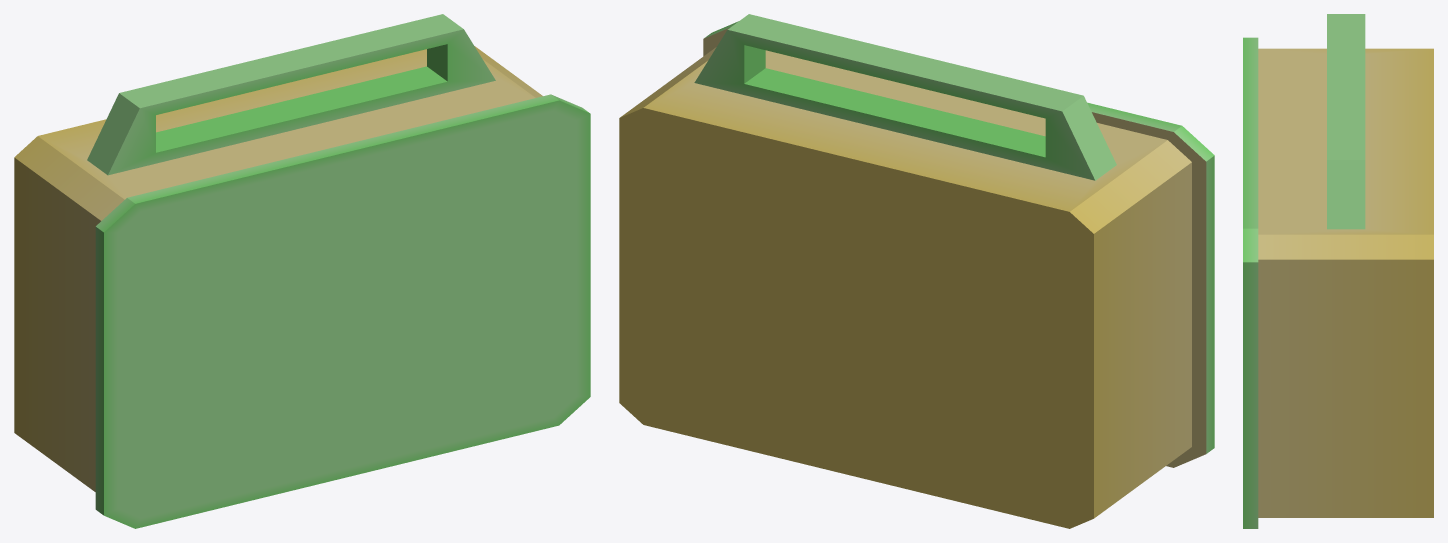
Rendered from LunchBoxModel.fbx.
The picture shows the model from 3 angles, left to right: view 1: azimuth 30°, elevation 25°; view 2: azimuth 150°, elevation 25°; view 3: azimuth 270°, elevation 25°; orthographic projection. The views are drawn at different scales.
Parts seen in each view (by area): view 1: LunchBag; view 2: LunchBag; view 3: LunchBag.
Part boxes in pixels (bbox=[...]): LunchBag: bbox=[14, 14, 590, 528]; LunchBag: bbox=[619, 14, 1214, 528]; LunchBag: bbox=[1243, 14, 1433, 528].
Size of the model in its own units: 26.21 by 19.31 by 9.63.
